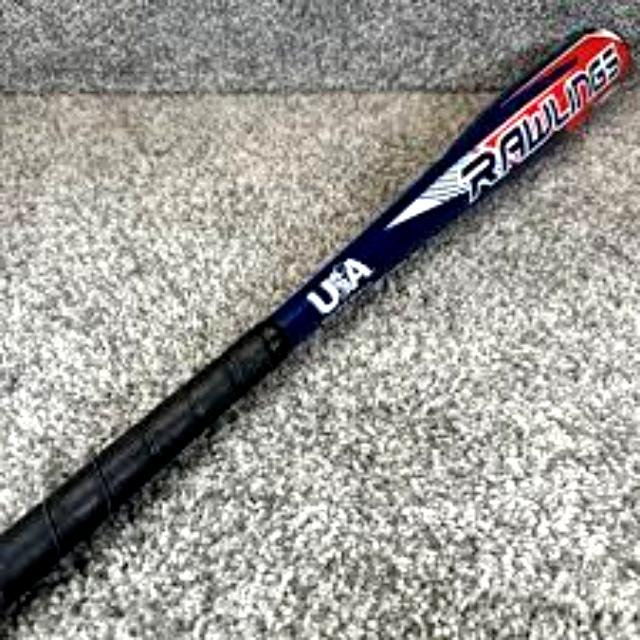baseball bat: (0, 20, 640, 629)
